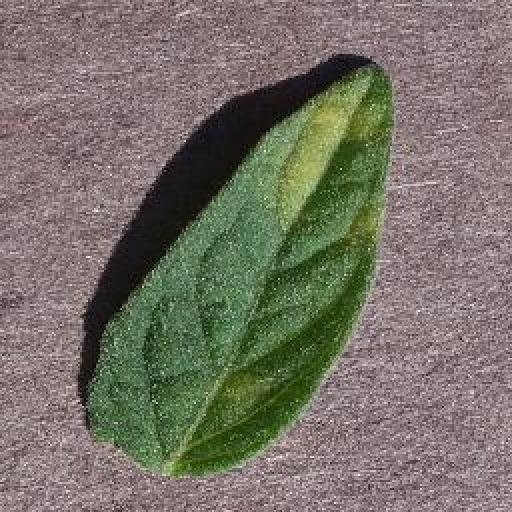disease_tomato: (90, 64, 396, 477)
